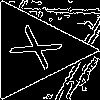X: (8, 25, 73, 76)
